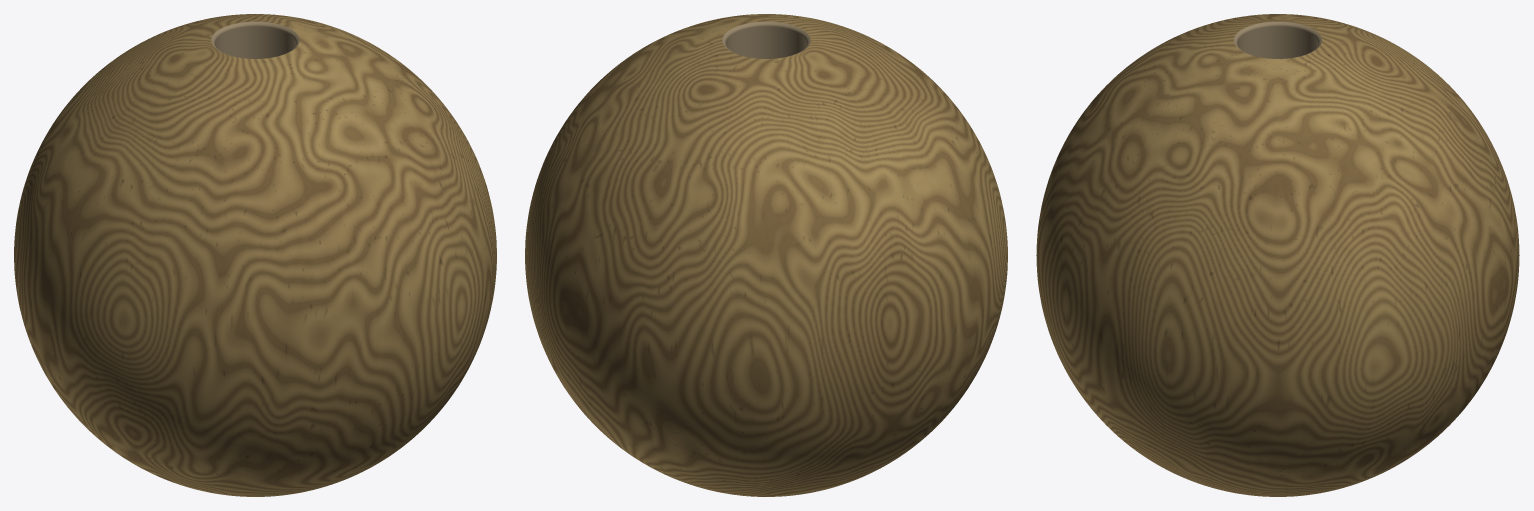
The model's file is wood-golden-nan-reference-6mm.glb.
The picture shows the model from 3 angles, left to right: view 1: azimuth 30°, elevation 25°; view 2: azimuth 150°, elevation 25°; view 3: azimuth 270°, elevation 25°; orthographic projection.
Visible parts, largest first — view 1: golden-nan-reference; view 2: golden-nan-reference; view 3: golden-nan-reference.
Part boxes in pixels (left/top/right/bottom): golden-nan-reference: left=14, top=14, right=496, bottom=496; golden-nan-reference: left=525, top=14, right=1007, bottom=496; golden-nan-reference: left=1036, top=14, right=1519, bottom=496.
Bounding box in the file's own units: 0.006 × 0.0059 × 0.006.
2 materials, 1 textured.
